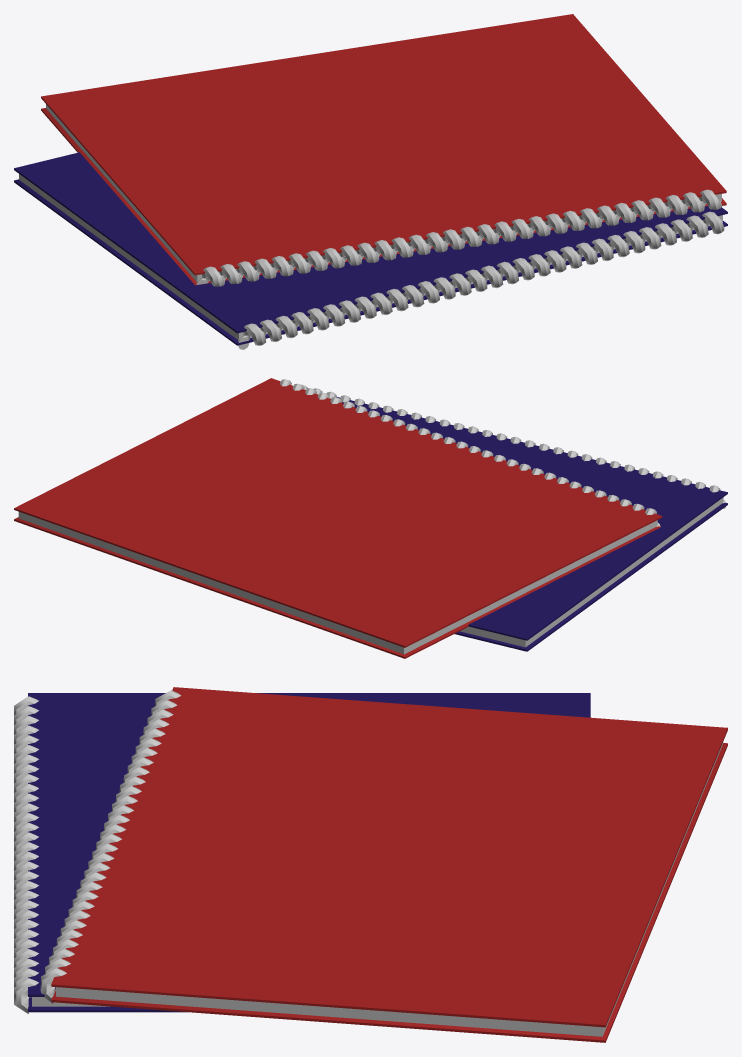
The model's file is Notebooks.fbx.
3 views of the same model, one above another, from view 1: azimuth 30°, elevation 25°; view 2: azimuth 150°, elevation 25°; view 3: azimuth 270°, elevation 25° (orthographic). The views are drawn at different scales.
Parts seen in each view (by area): view 1: Notebookie (×2), Coil (×2); view 2: Notebookie (×2), Coil (×2); view 3: Notebookie (×2), Coil (×2).
Part boxes in pixels (bbox=[...]): Notebookie (×2): bbox=[14, 14, 727, 345]; Coil (×2): bbox=[196, 189, 724, 349]; Notebookie (×2): bbox=[14, 378, 727, 658]; Coil (×2): bbox=[280, 379, 725, 526]; Notebookie (×2): bbox=[28, 687, 727, 1042]; Coil (×2): bbox=[14, 690, 181, 1013].
Size of the model in its own units: 0.9535 by 0.0591 by 0.828.
